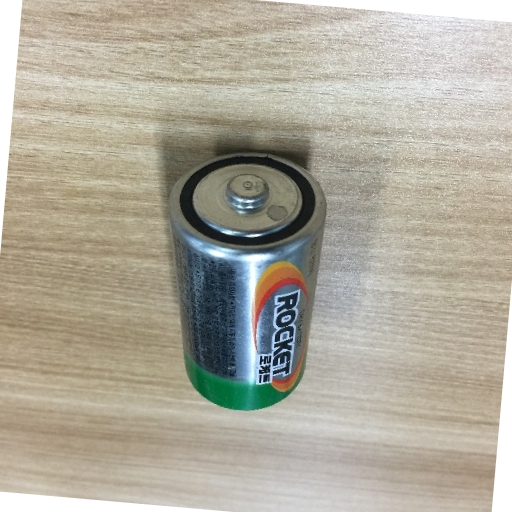Battery_0: (157, 142, 333, 417)
